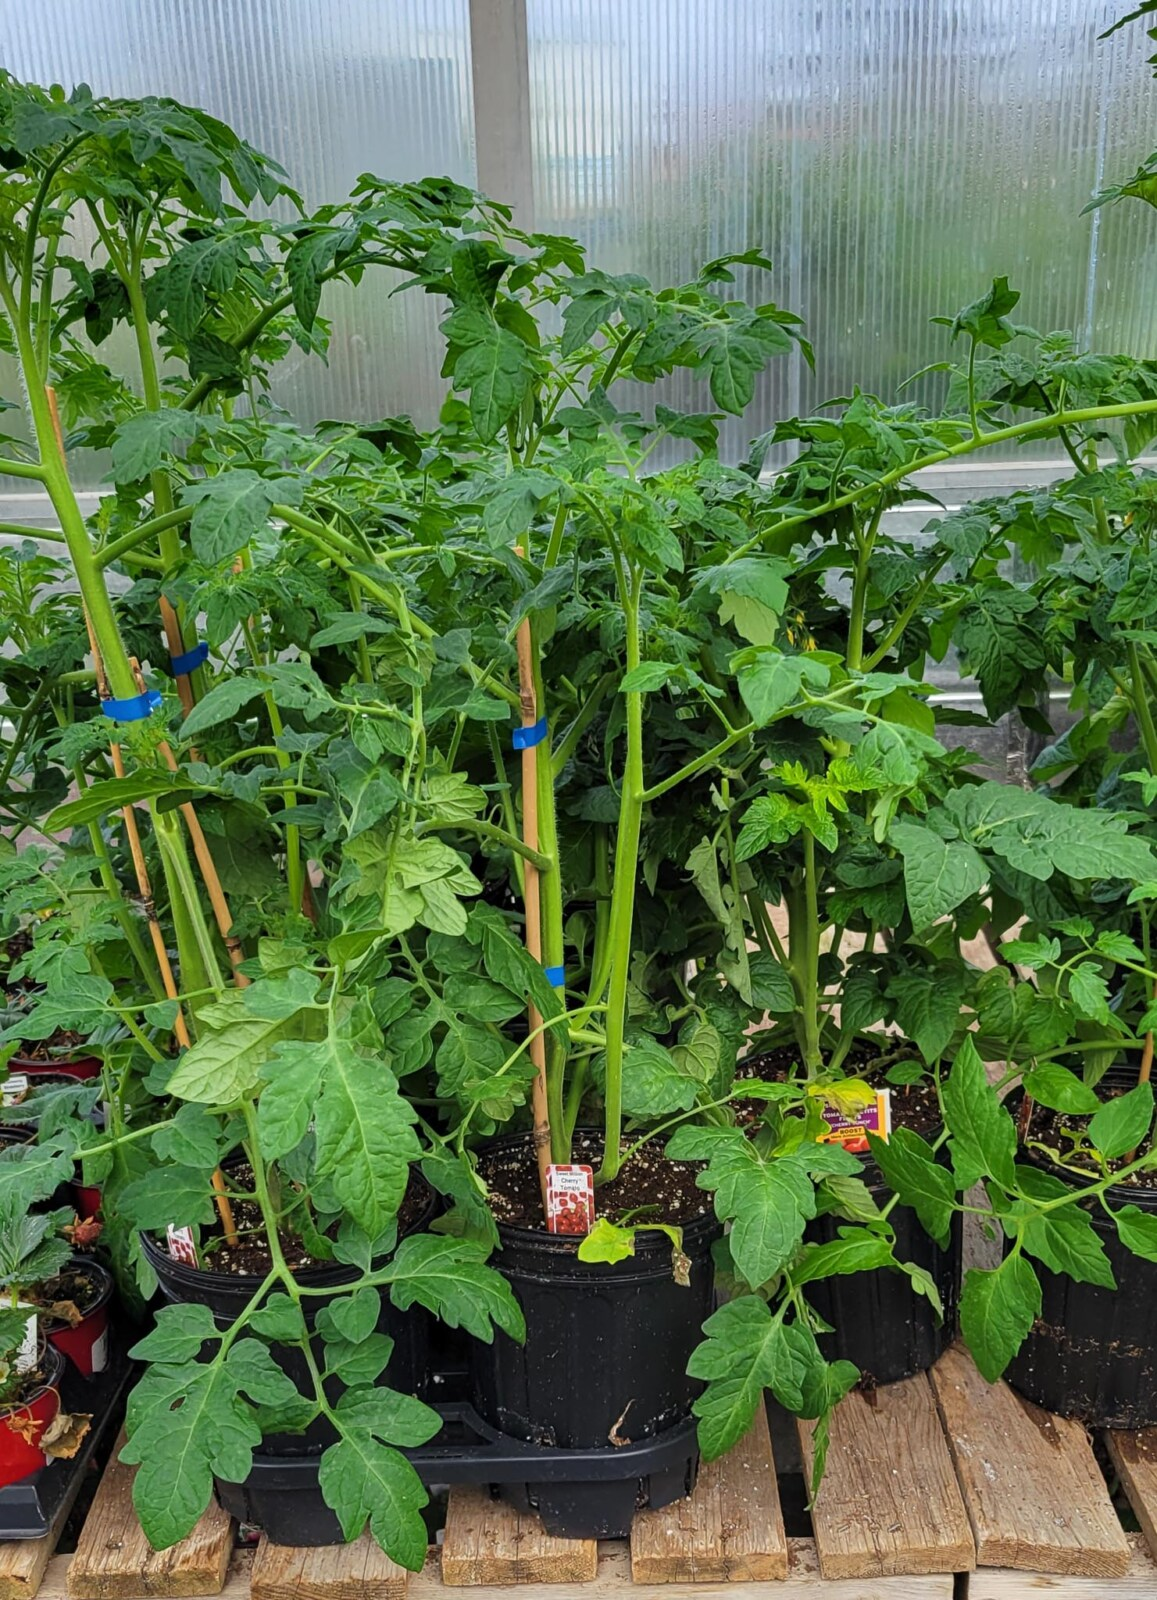tomato: (232, 480, 943, 1288)
